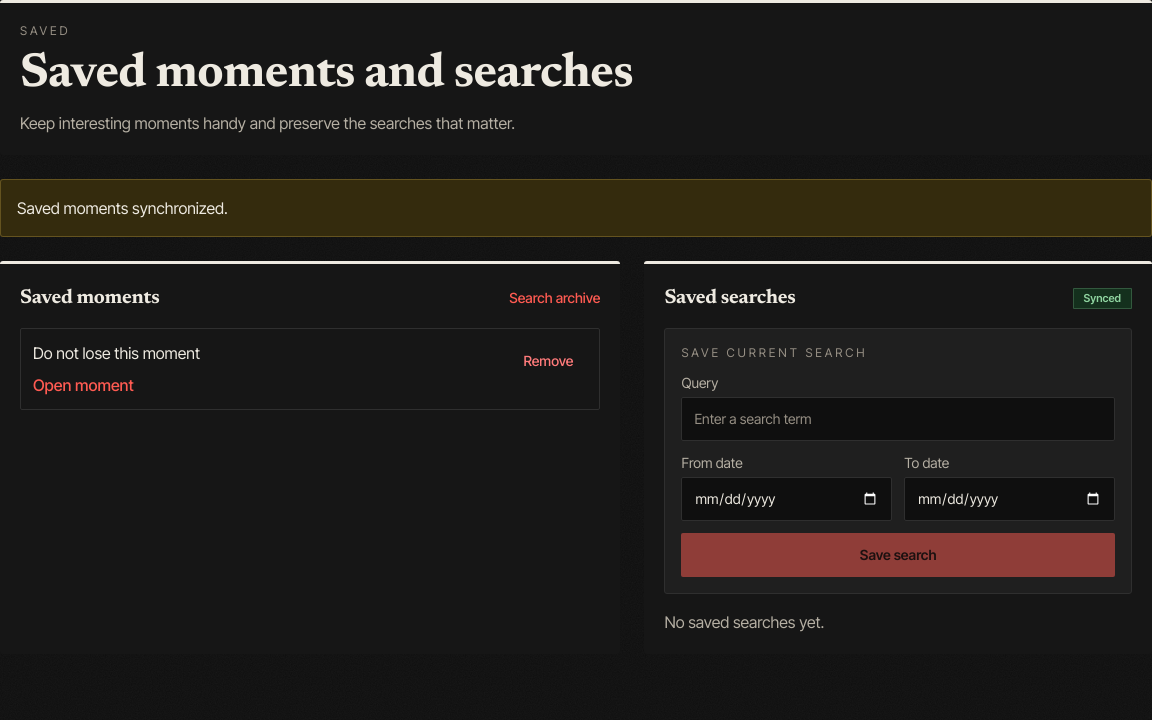
Test: FavoritesPage accessibility › keeps a remote moment visible and retryable when deletion fails
Expected: the text "Do not lose this moment" is shown, top-left (33, 341), bottom-right (200, 365)
Click the button "Remove". click: (548, 361)
box: top-left (509, 341), bottom-right (587, 381)
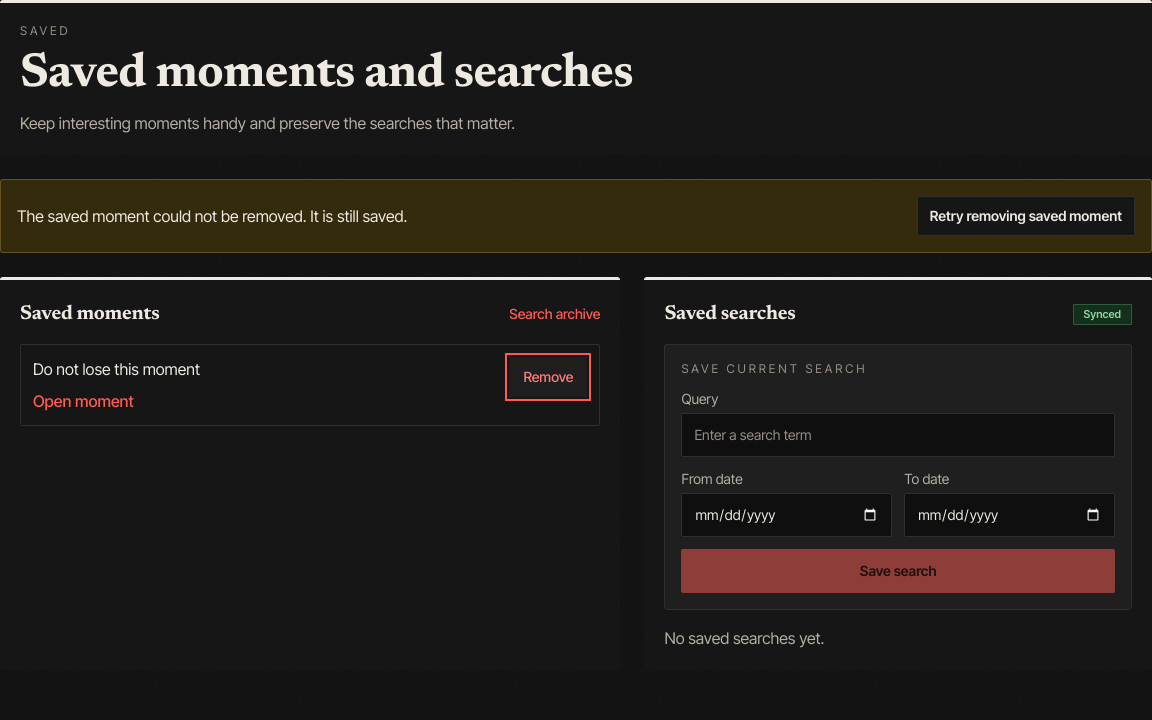
Expected: the text "Do not lose this moment" is shown, top-left (33, 357), bottom-right (200, 381)
Result: the message shows "It is still saved." at top-left (17, 206), bottom-right (407, 226)
Result: the button "Retry removing saved moment" is enabled at top-left (917, 196), bottom-right (1135, 236)
